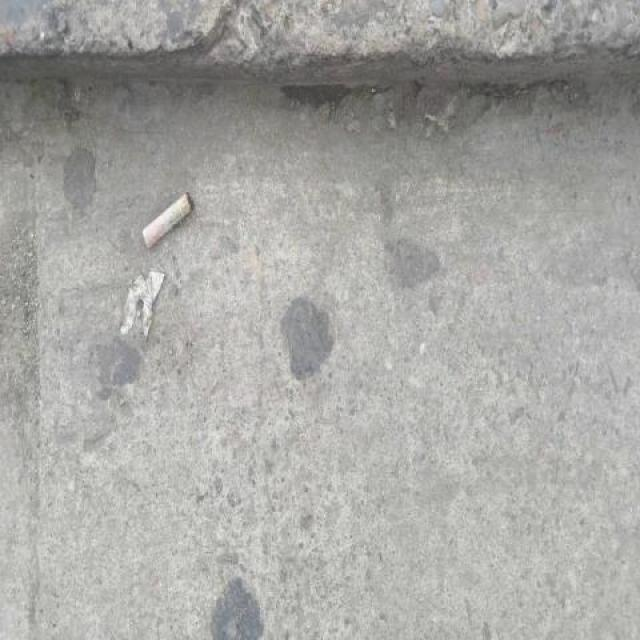non-organic waste: (135, 188, 201, 252)
